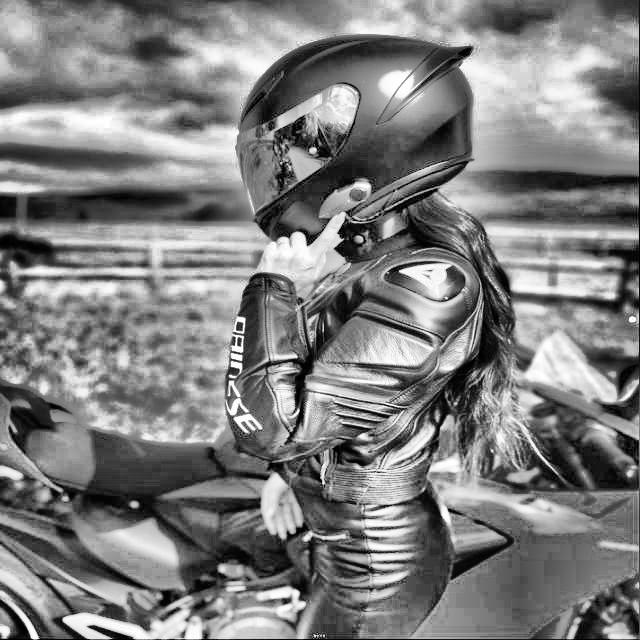Helmet: (224, 30, 480, 256)
